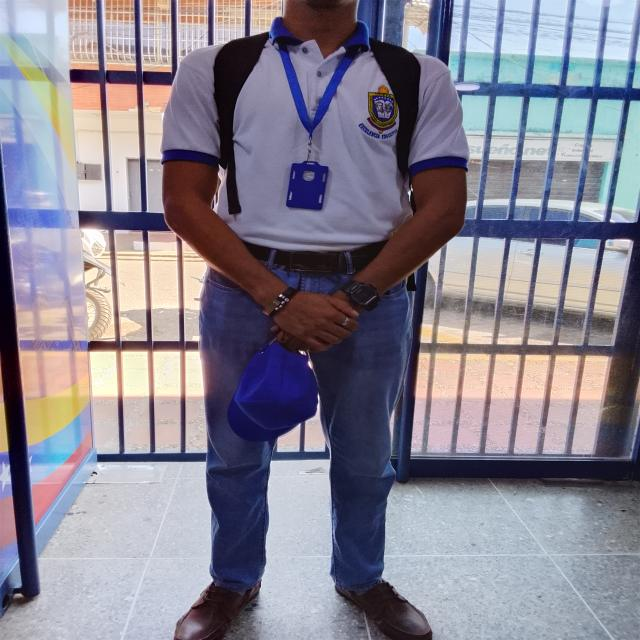carnet: (286, 163, 328, 210)
uniforme_superior: (160, 16, 471, 253)
